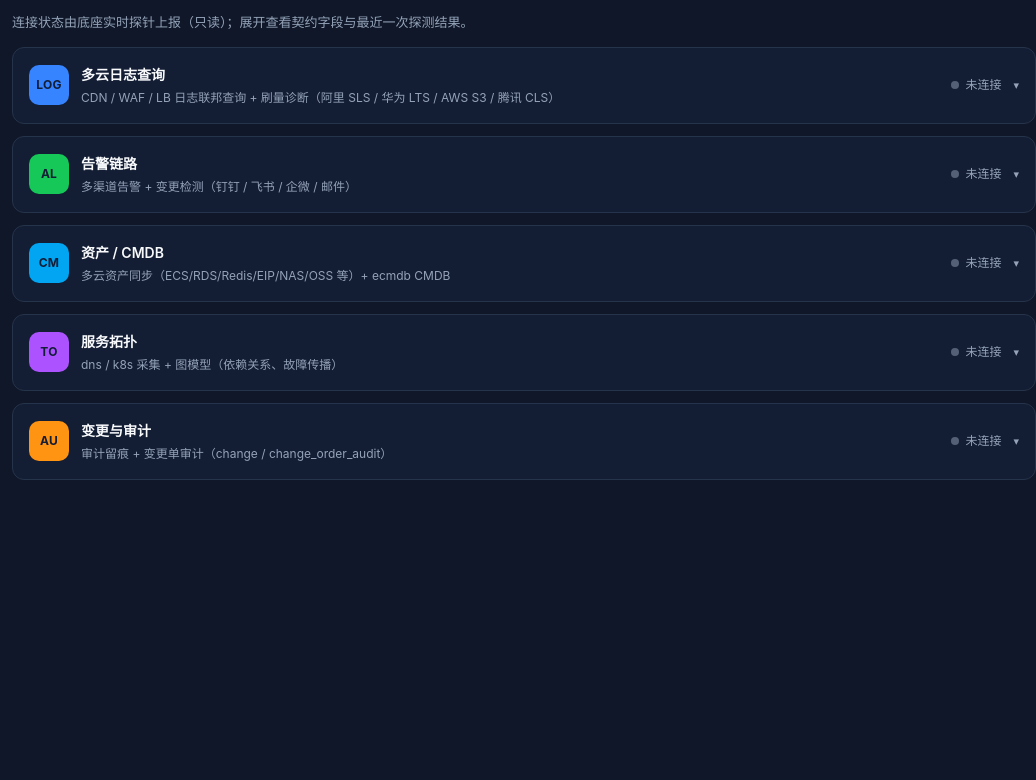
Test: DatasourceTab 数据源配置（原型 settings.html 五卡注册表口径） › 点击卡头展开明细字段列表（aria-expanded 翻转）
Click the button with class "ds-card-head" that starts with "LOG": {"x": 49, "y": 85} x1=29 y1=65 x2=1019 y2=105
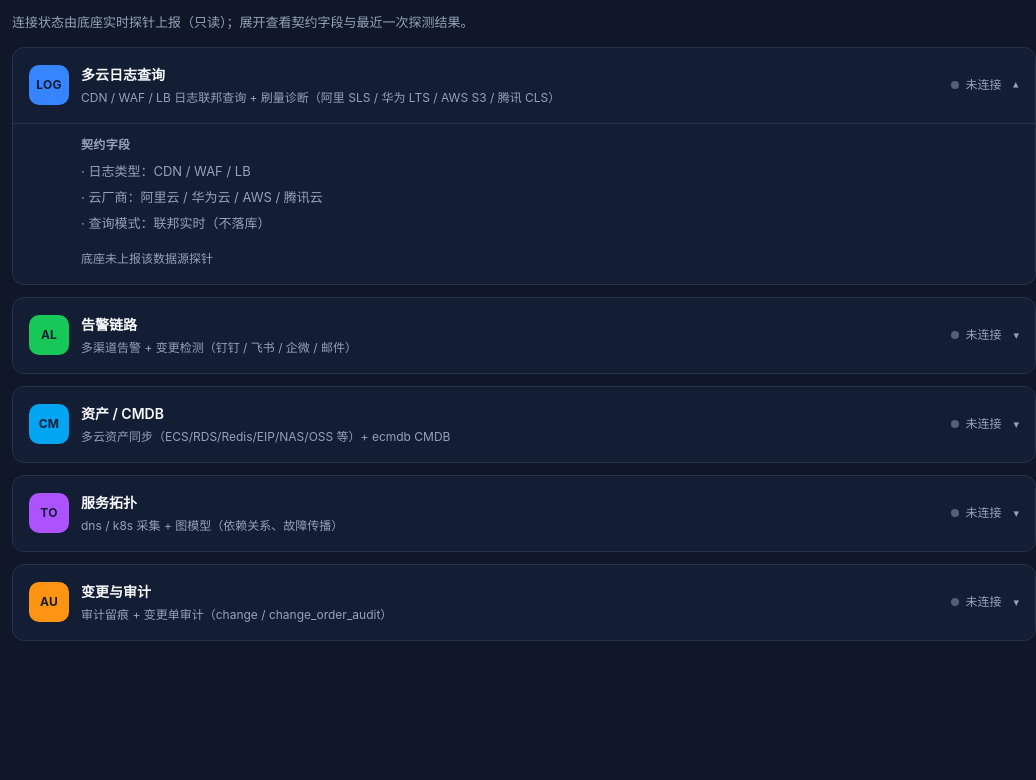
Now the element with class "ds-panel" shows "日志类型：CDN / WAF / LB", box x1=81 y1=163 x2=251 y2=179
Now the element with class "ds-panel" shows "查询模式：联邦实时（不落库）", box x1=81 y1=215 x2=270 y2=231
